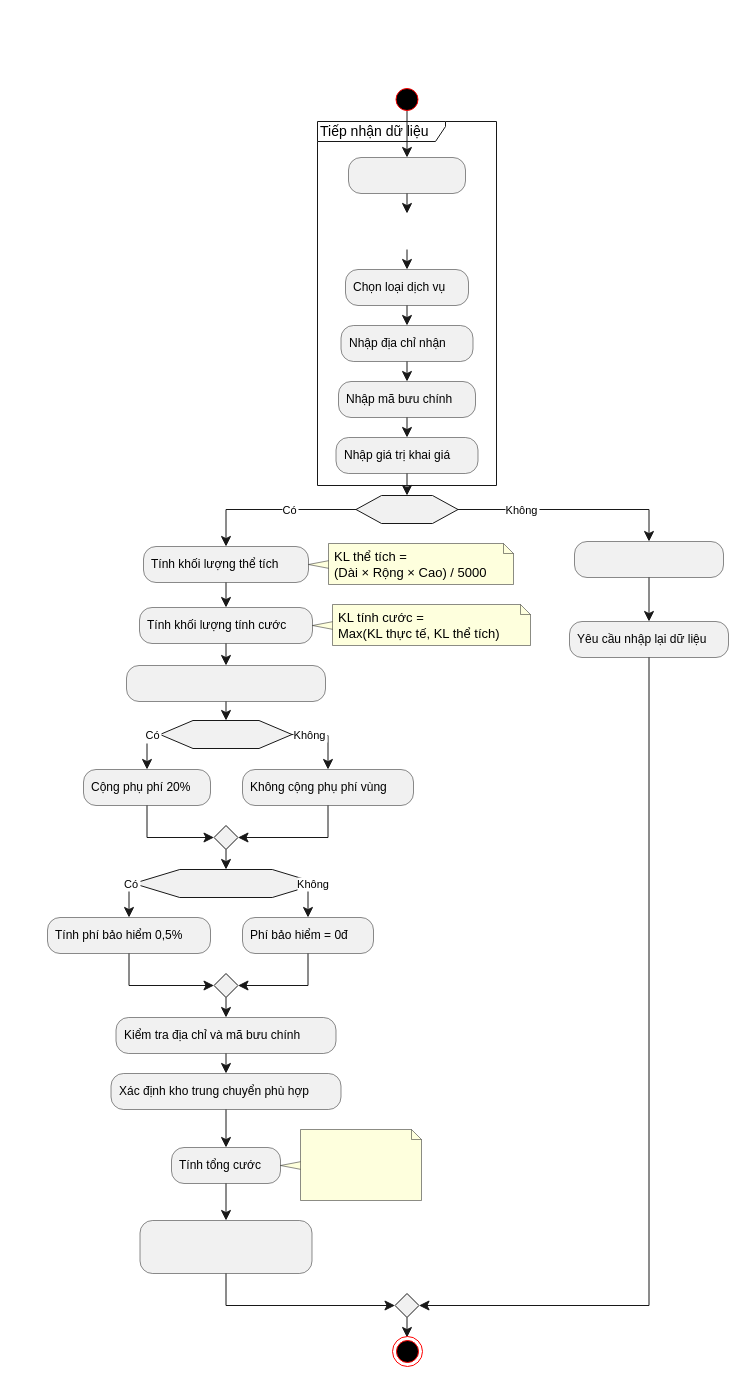
Image size: 746x1384. Some labels were removed from this diagram. Here are the shapes that lost their labels. From the top down, the centre of each, then its label:
pixel 406 175: Nhập kích thước
pixel 406 509: Dữ liệu hợp lệ?
pixel 648 559: Hiển thị thông báo lỗi
pixel 225 683: Tính cước cơ bản theo dịch vụ
pixel 225 734: Mã bưu chính thuộc vùng sâu/vùng xa?
pixel 225 883: Giá trị khai giá > 5.000.000đ?
pixel 360 1164: Tổng cước = Cước cơ bản + Phụ phí vùng + Phí bảo hiểm
pixel 225 1246: Hiển thị chi tiết cước và kho trung chuyển gợi ý
